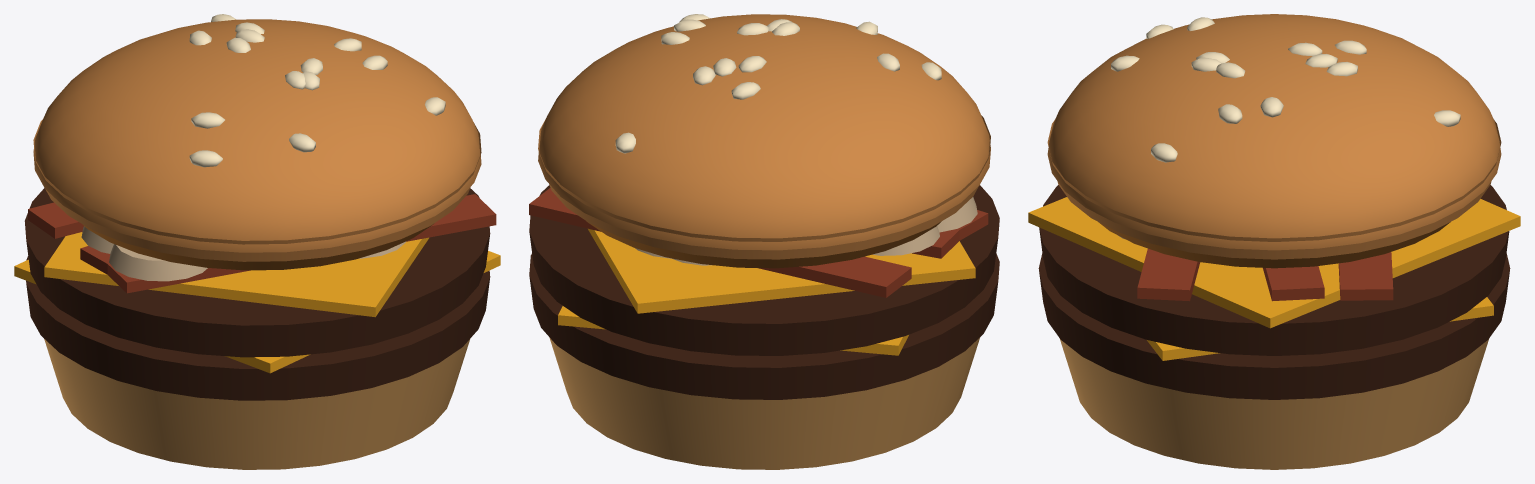
File: burger-doble-champi.glb
3 renders of one model, left to right at view 1: azimuth 30°, elevation 25°; view 2: azimuth 150°, elevation 25°; view 3: azimuth 270°, elevation 25°, orthographic.
Bounding box in the file's own units: 0.1679 × 0.128 × 0.1679.
